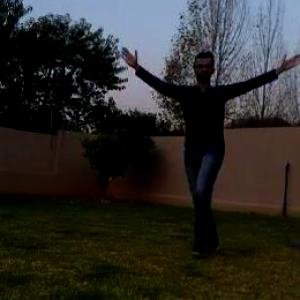takeoff: (140, 55, 298, 258)
